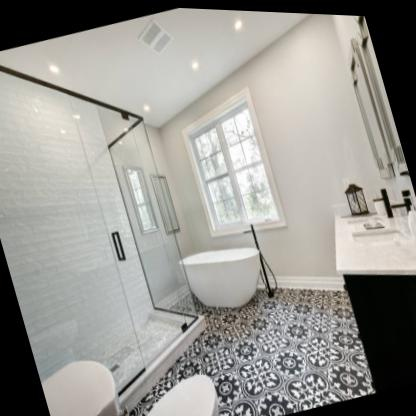Window: (182, 83, 286, 237)
